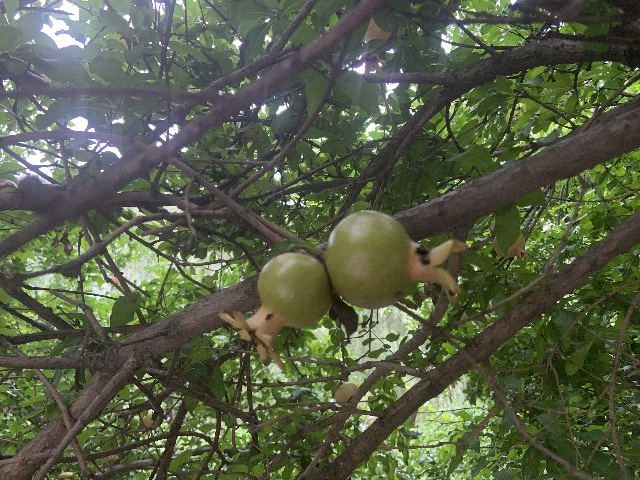mid-growth: (324, 210, 464, 309), (218, 252, 332, 372), (137, 409, 159, 436), (334, 382, 358, 406)
